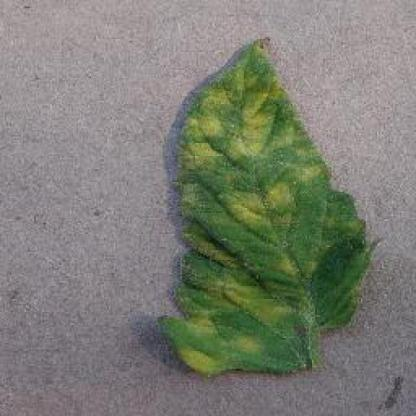Tomato_Leaf_Mold: (162, 38, 376, 374)
